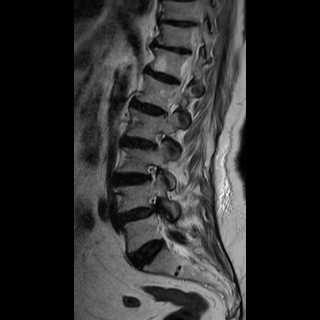RFS0: (140, 158, 164, 189)
